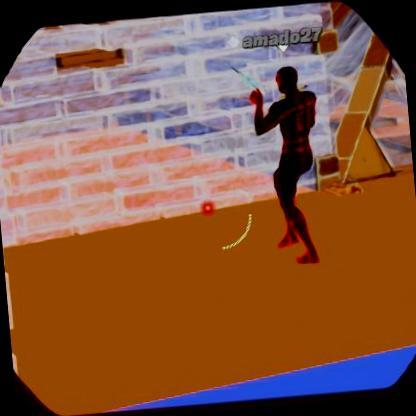person: (250, 64, 330, 265)
